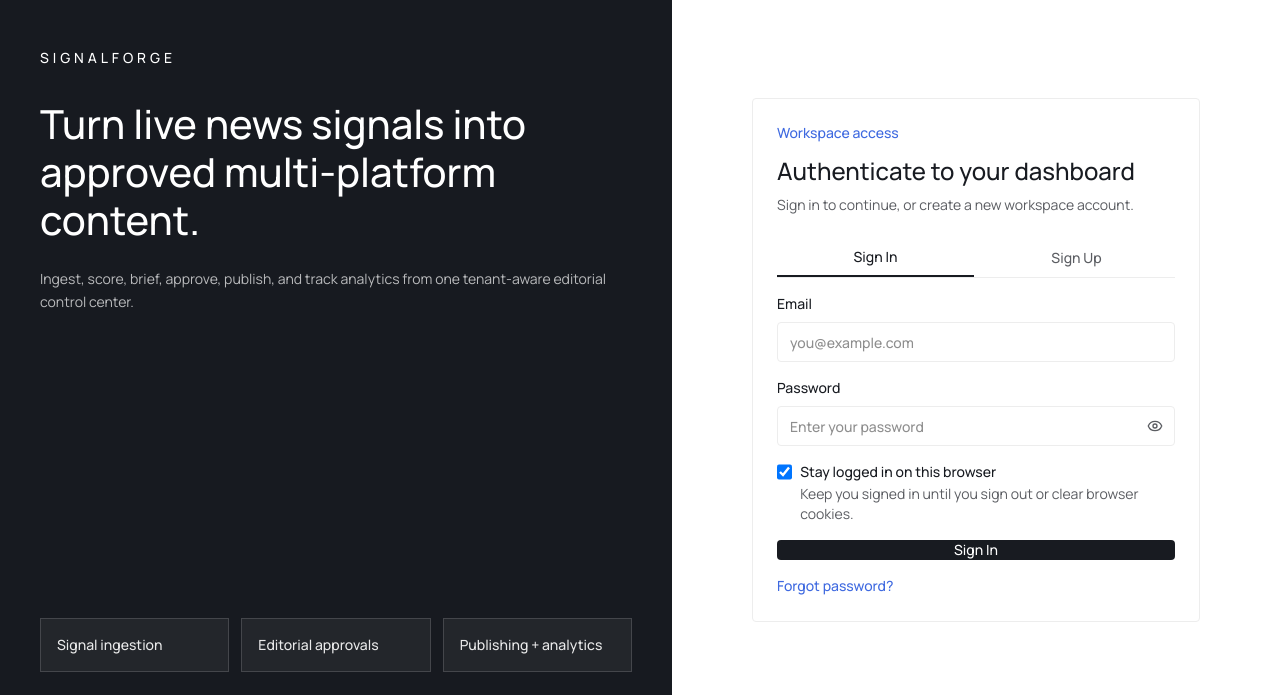
Test: AuthHomePage › restores password visibility toggle and forgot-password reset request
Click the button named "Show password".
click(1155, 426)  # box [1147,418,1163,434]
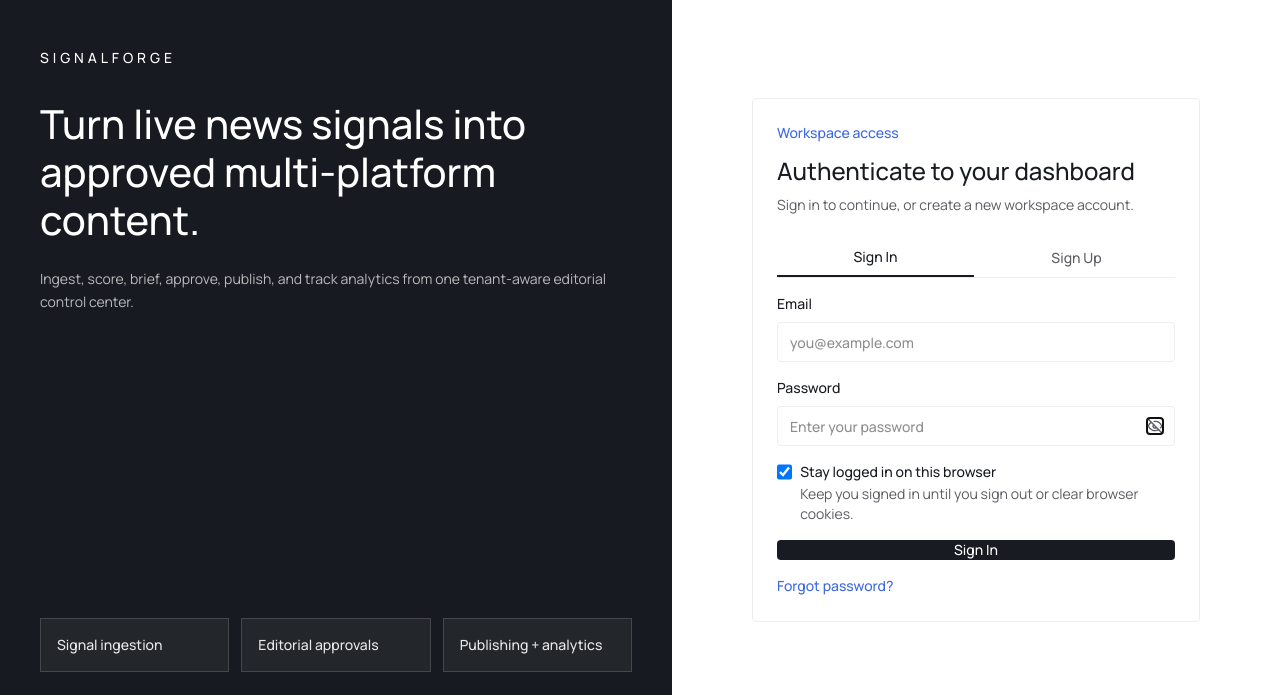
Type "demo@example.com" into the field labelled "Email".
click(976, 342); type("demo@example.com")  # box [777,322,1175,362]
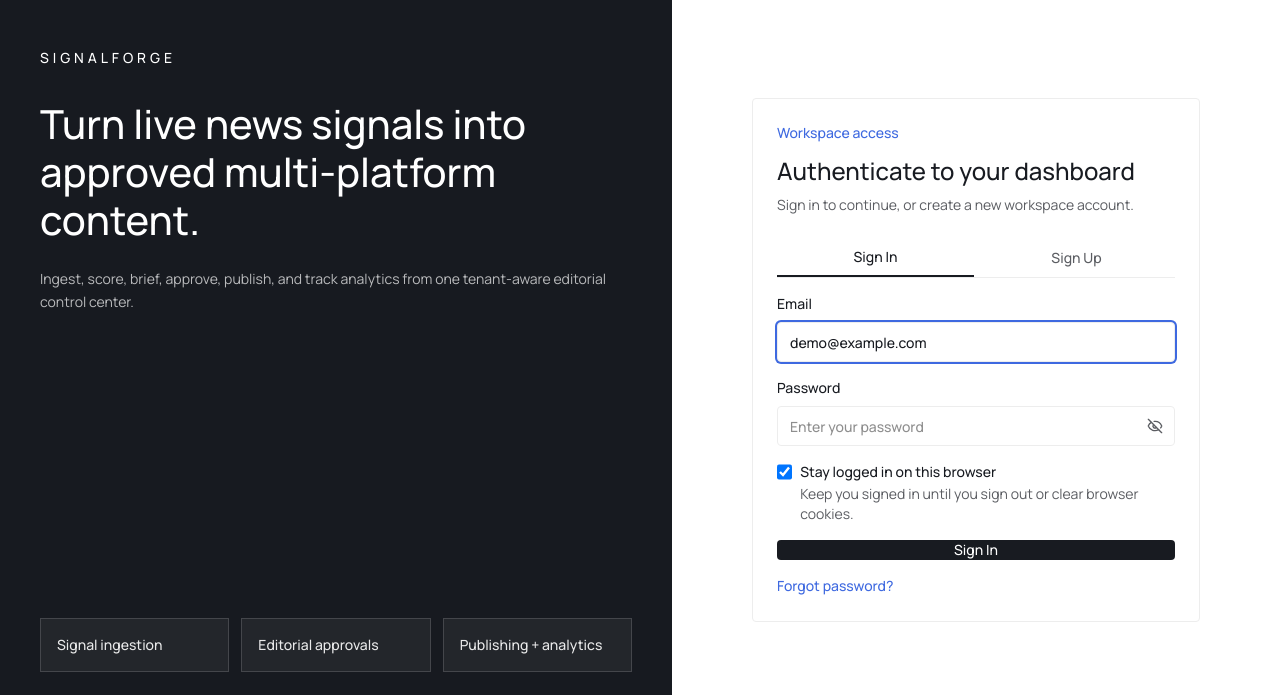
Click the button "Forgot password?".
click(835, 586)  # box [777,576,894,596]
(page scrolled)
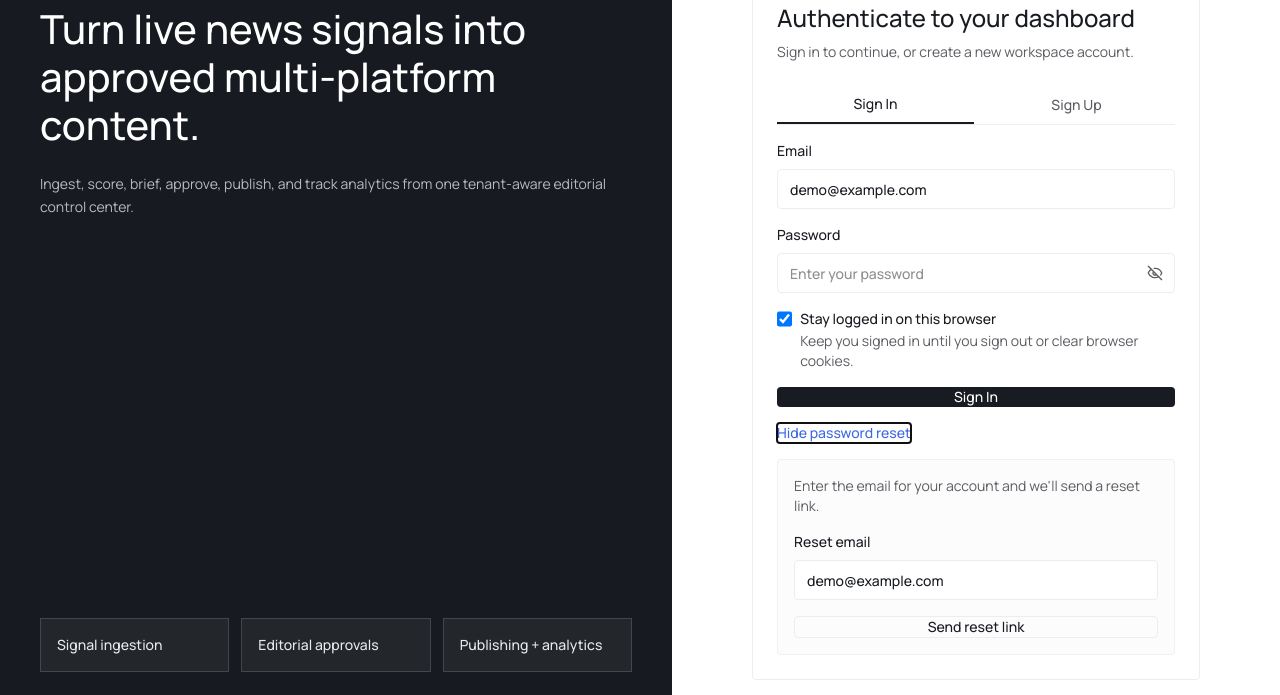
Click the button "Send reset link".
click(976, 627)  # box [794,616,1158,638]
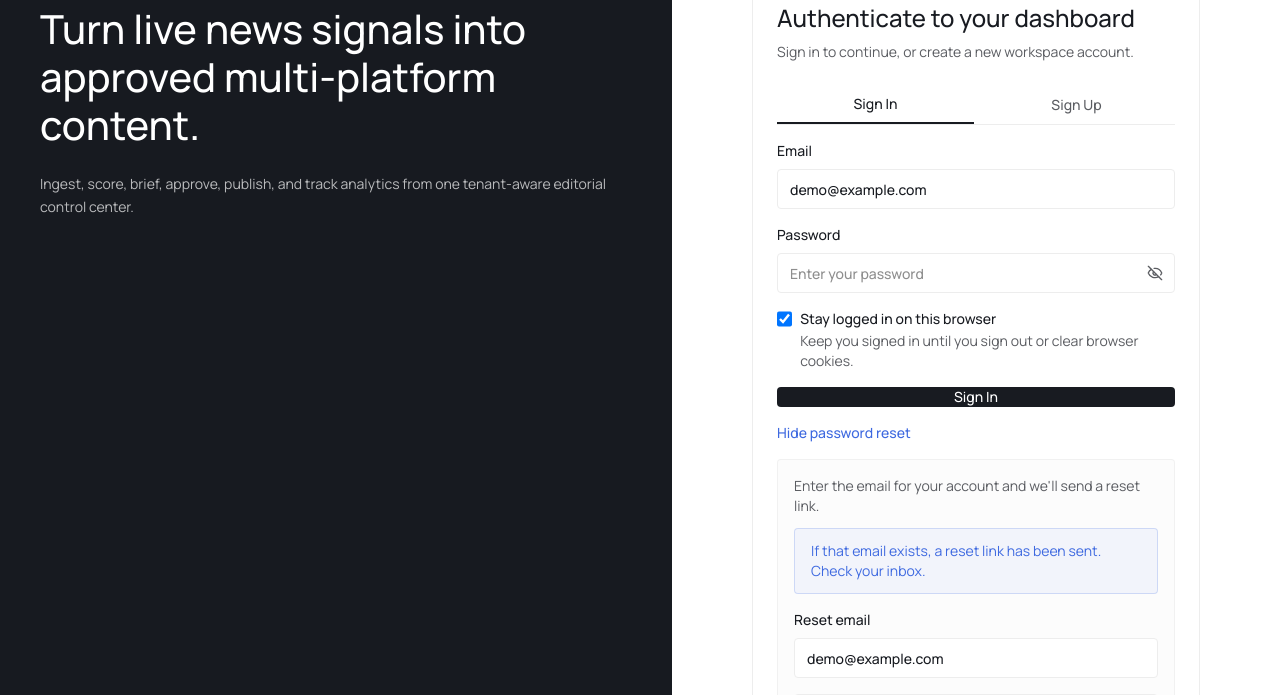
Expected: the text "If that email exists, a reset link has been sent. Check your inbox." is shown, [794,528,1158,594]
